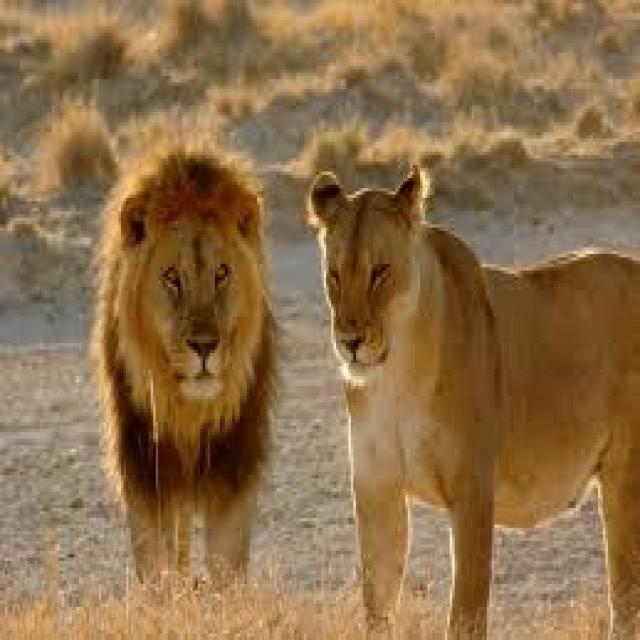Lion: (96, 144, 280, 591)
